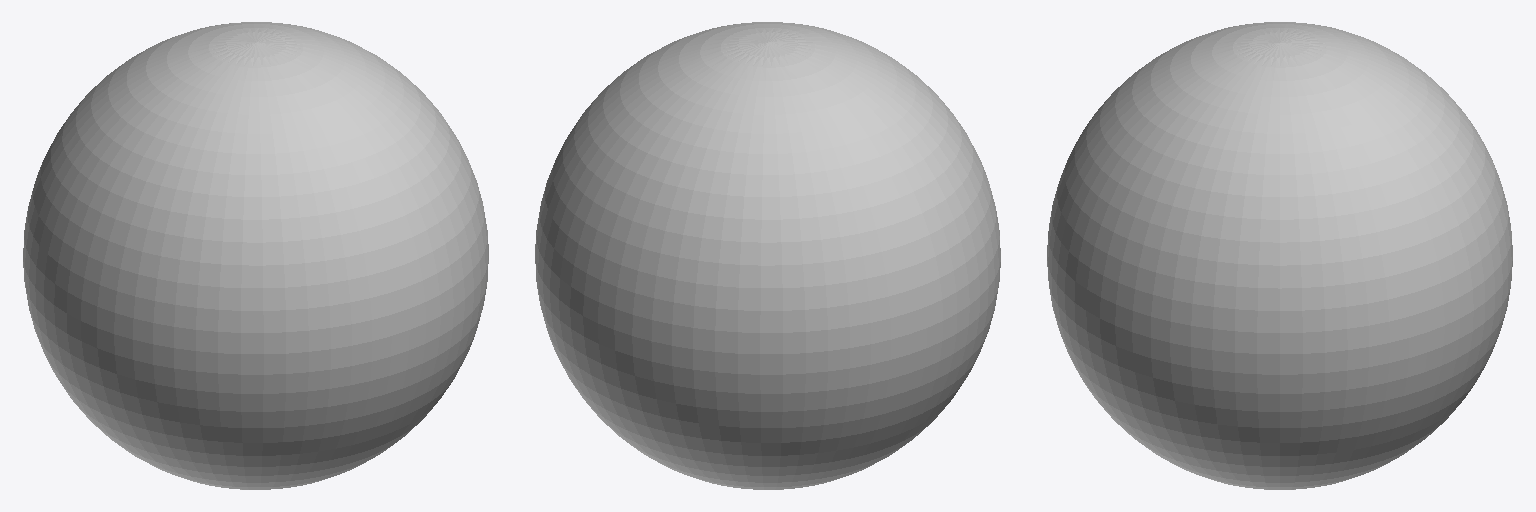
Rendered from uranus.obj.
3 views of the same model, side by side, from view 1: azimuth 30°, elevation 25°; view 2: azimuth 150°, elevation 25°; view 3: azimuth 270°, elevation 25° (orthographic).
Parts seen in each view (by area): view 1: Uranus; view 2: Uranus; view 3: Uranus.
Part boxes in pixels (bbox=[...]): Uranus: bbox=[23, 22, 488, 489]; Uranus: bbox=[535, 22, 1000, 489]; Uranus: bbox=[1047, 22, 1512, 489].
Bounding box in the file's own units: 0.846 × 0.8549 × 0.846.